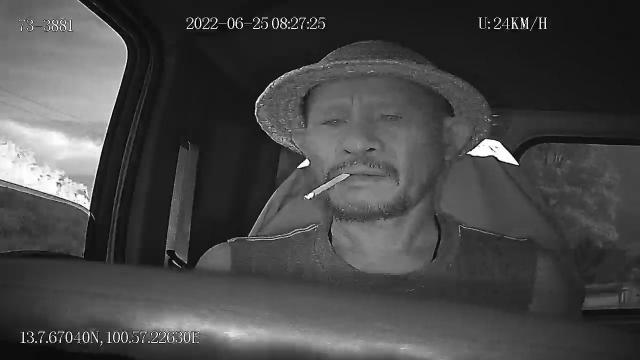SafeDriving: (313, 106, 352, 133), (371, 102, 411, 128)
Smoking: (301, 172, 351, 198)
